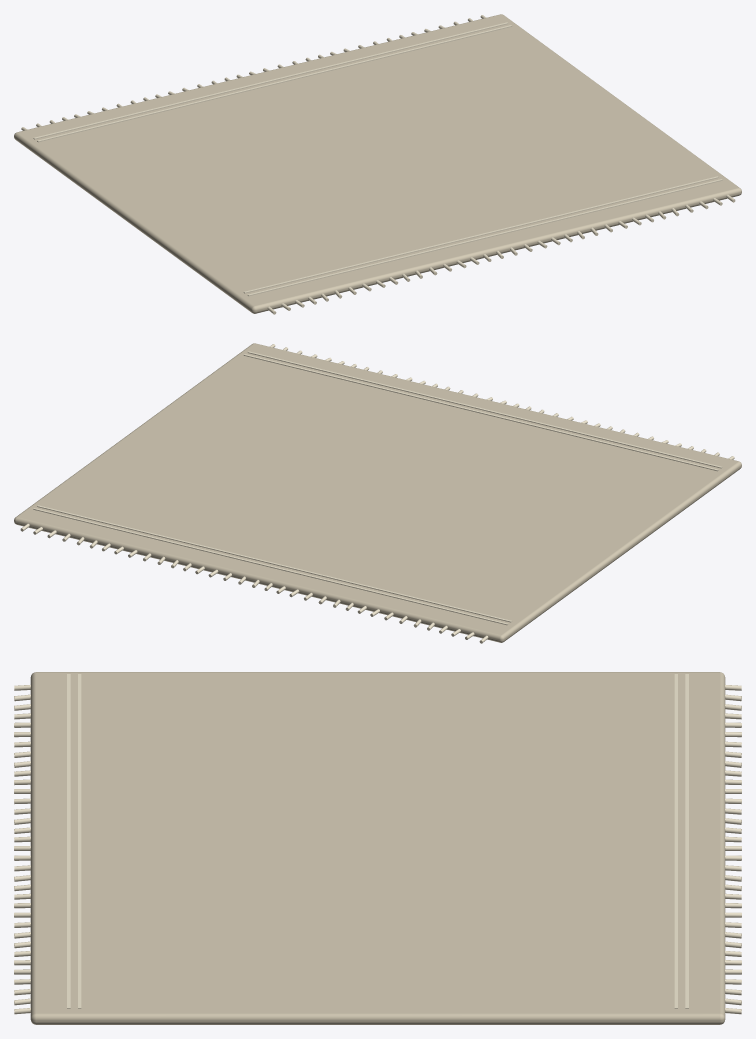
File: family-flax-mat-v1.glb
3 renders of one model, top to bottom at view 1: azimuth 30°, elevation 25°; view 2: azimuth 150°, elevation 25°; view 3: azimuth 270°, elevation 25°, orthographic. The views are drawn at different scales.
Parts seen in each view (by area): view 1: Linen placemat, Woven border (×4); view 2: Linen placemat, Woven border (×4); view 3: Linen placemat, Woven border (×4).
Boxes of the visible parts, left/top/right/bottom form: Linen placemat: left=14, top=14, right=741, bottom=313; Woven border (×4): left=33, top=22, right=722, bottom=296; Linen placemat: left=14, top=343, right=741, bottom=642; Woven border (×4): left=33, top=351, right=722, bottom=625; Linen placemat: left=30, top=672, right=725, bottom=1024; Woven border (×4): left=67, top=674, right=688, bottom=1008.
Size of the model in its own units: 0.6 by 0.0106 by 0.5345.
